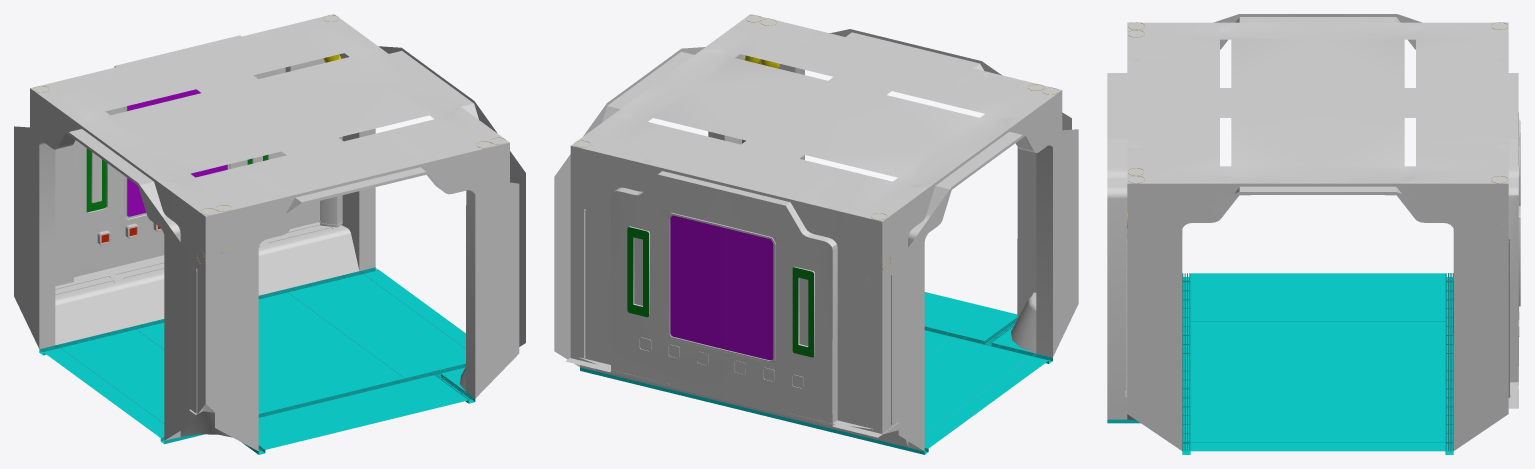
The model's file is t_TYPE2.fbx.
The picture shows the model from 3 angles, left to right: view 1: azimuth 30°, elevation 25°; view 2: azimuth 150°, elevation 25°; view 3: azimuth 270°, elevation 25°; orthographic projection. The views are drawn at different scales.
Parts seen in each view (by area): view 1: T_type_net; view 2: T_type_net; view 3: T_type_net.
Part boxes in pixels (x1,y1,x2,y2): T_type_net: (14, 14, 525, 454); T_type_net: (554, 14, 1078, 454); T_type_net: (1107, 14, 1520, 454).
Size of the model in its own units: 442 by 305 by 434.
